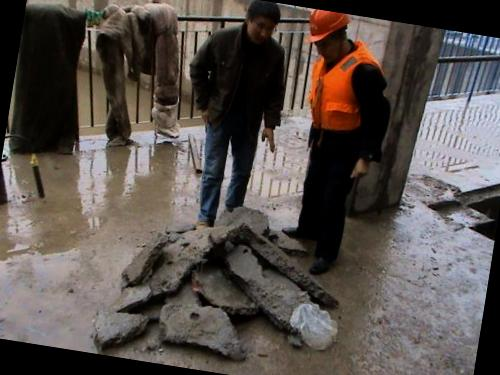no_helmet: (231, 0, 288, 46)
